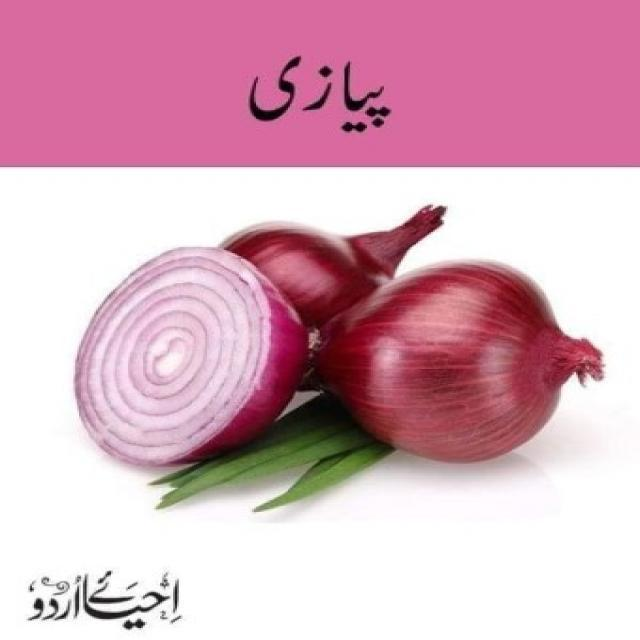onion: (319, 254, 613, 468), (64, 247, 285, 458)
